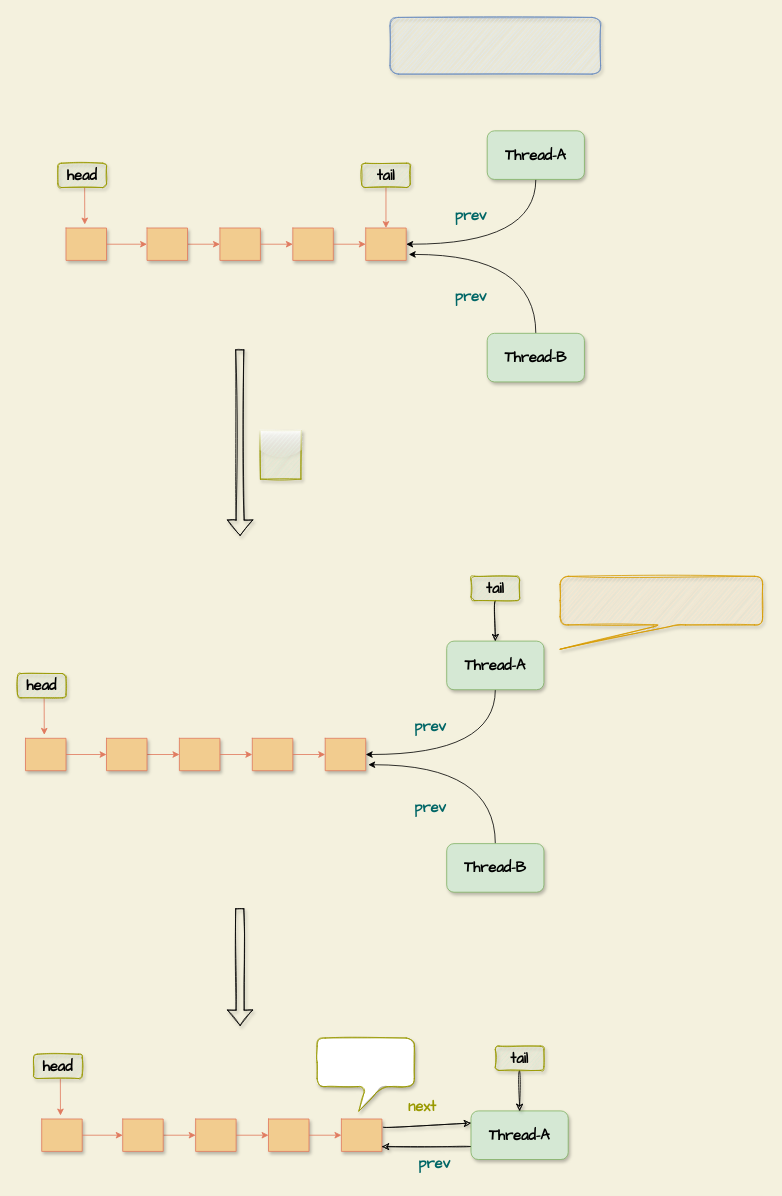
Some shapes in this 782 by 1196 pixel diagram are drawn without their labels. The centre of each missing label's shape, as x and y in pixels:
"2个线程同时竞争添加到表尾" belongs at pixel 495 46.
"CAS" belongs at pixel 281 455.
"Thread-A竞争成功成为新tail" belongs at pixel 661 613.
"旧tail修改next" belongs at pixel 366 1075.
